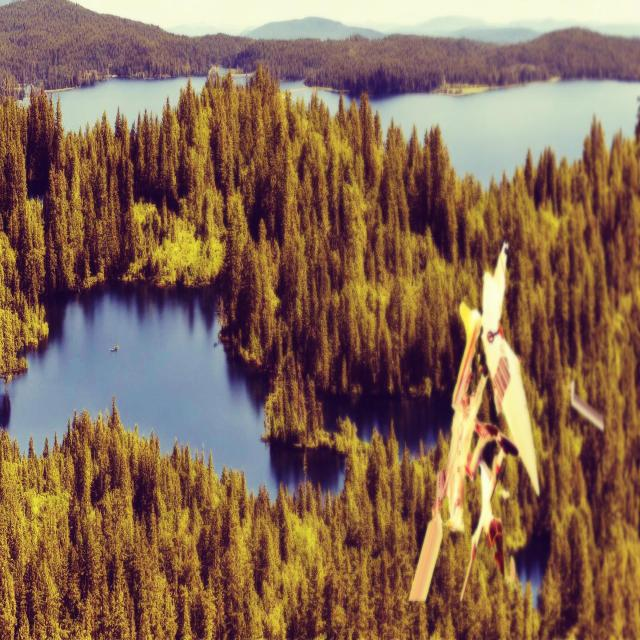airplane: (409, 241, 538, 600)
